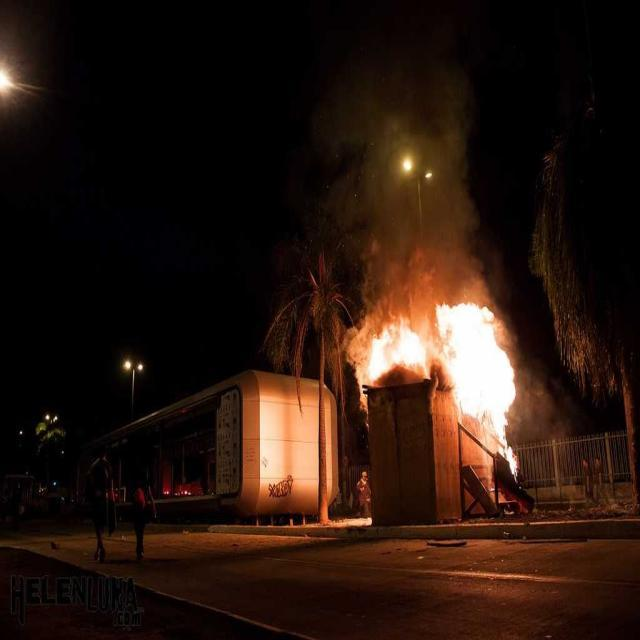Fire: (448, 308, 522, 427), (370, 328, 430, 381)
